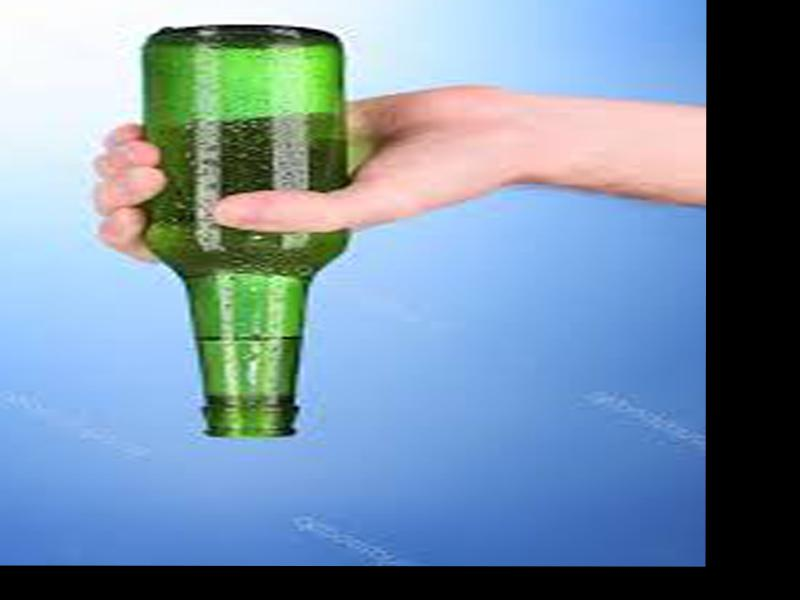Beer: (146, 24, 344, 439)
